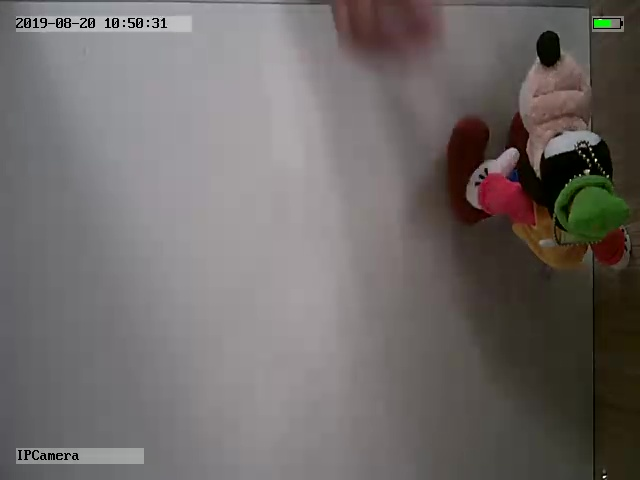goofy: (445, 29, 632, 271)
